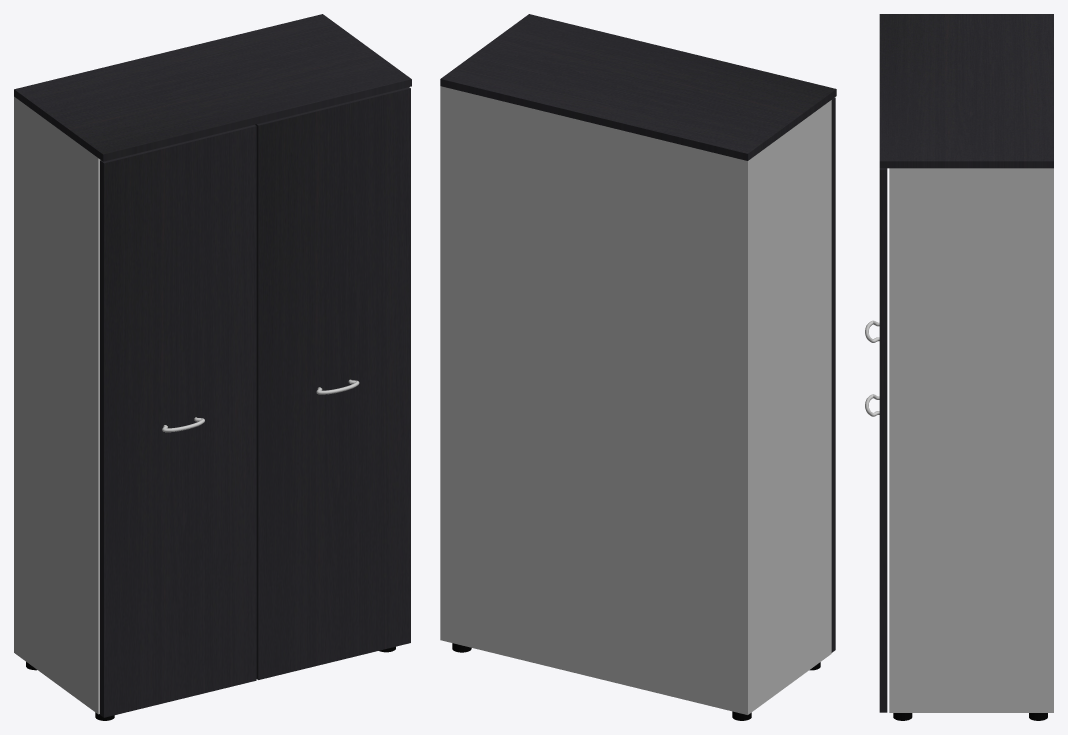
The model's file is sweethome3d-lucapresidente-bookcase-90x160-22.glb.
3 views of the same model, side by side, from view 1: azimuth 30°, elevation 25°; view 2: azimuth 150°, elevation 25°; view 3: azimuth 270°, elevation 25° (orthographic). The views are drawn at different scales.
Visible parts, largest first — view 1: Box45_4, Box44_3, Box47_6, Box46_5; view 2: Box47_6, Box46_5, Box45_4; view 3: Box47_6, Box46_5, Box44_3.
Boxes of the visible parts, box(x1,y1,x2,y2) form: Box45_4: box(100, 124, 256, 717); Box44_3: box(255, 87, 410, 679); Box47_6: box(14, 96, 100, 714); Box46_5: box(14, 14, 411, 161); Box47_6: box(440, 86, 831, 714); Box46_5: box(440, 14, 836, 160); Box45_4: box(831, 97, 835, 652); Box47_6: box(889, 168, 1053, 712); Box46_5: box(879, 14, 1053, 168); Box44_3: box(879, 168, 887, 712).
Bounding box in the file's own units: 90 × 160 × 48.75.
Materials: 3 (1 with a texture image).
